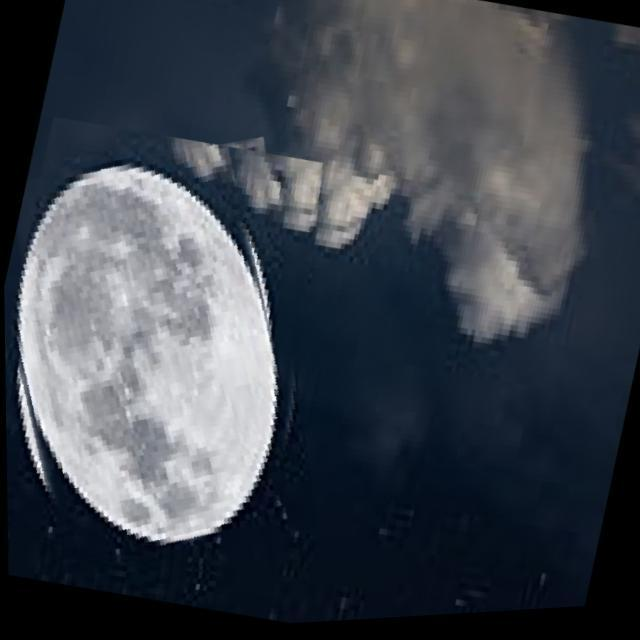moon: (1, 102, 366, 608)
